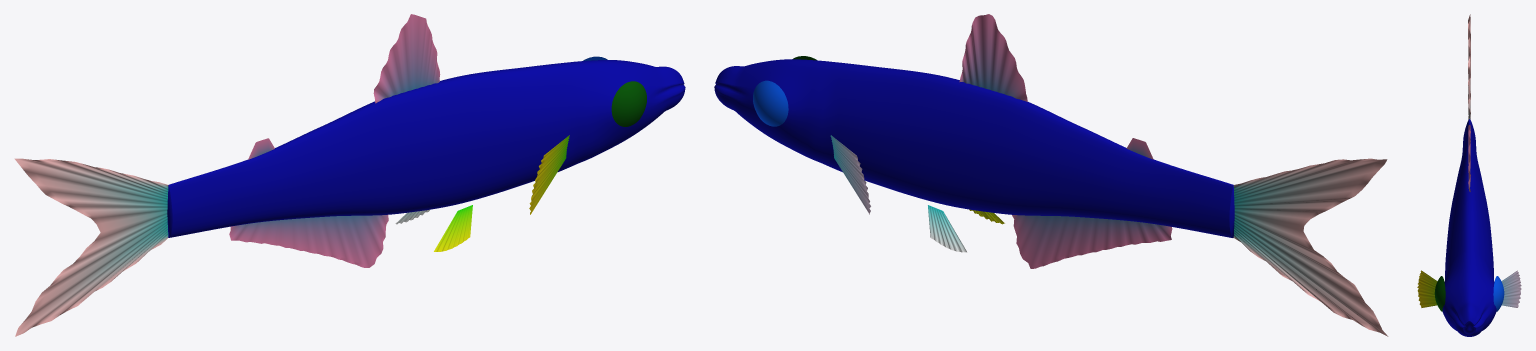
The model's file is neon.glb.
The picture shows the model from 3 angles, left to right: view 1: azimuth 30°, elevation 25°; view 2: azimuth 150°, elevation 25°; view 3: azimuth 270°, elevation 25°; orthographic projection. The views are drawn at different scales.
Parts seen in each view (by area): view 1: neon; view 2: neon; view 3: neon.
Part boxes in pixels (box(x1,y1,x2,y2)): neon: box(14, 14, 685, 336); neon: box(714, 14, 1388, 336); neon: box(1417, 14, 1521, 336).
Bounding box in the file's own units: 1.3 × 0.4522 × 0.2312.
